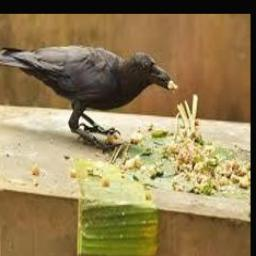Crow: (0, 45, 174, 141)
